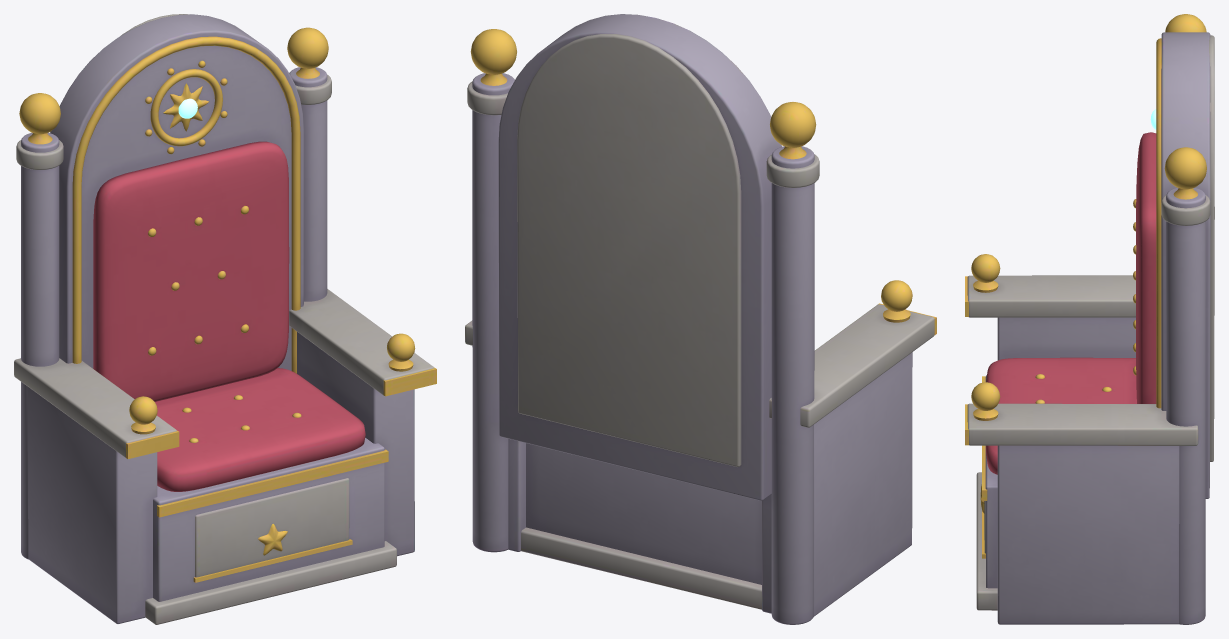
Rendered from throne.glb.
3 renders of one model, left to right at view 1: azimuth 30°, elevation 25°; view 2: azimuth 150°, elevation 25°; view 3: azimuth 270°, elevation 25°, orthographic. The views are drawn at different scales.
Visible parts, largest first — view 1: throne_body; view 2: throne_body; view 3: throne_body.
Boxes of the visible parts, x1,y1,x2,y2 form: throne_body: [14, 14, 436, 624]; throne_body: [465, 14, 936, 624]; throne_body: [965, 14, 1214, 624].
Size of the model in its own units: 1.2 by 1.84 by 0.8235.
2 materials, 1 textured.
